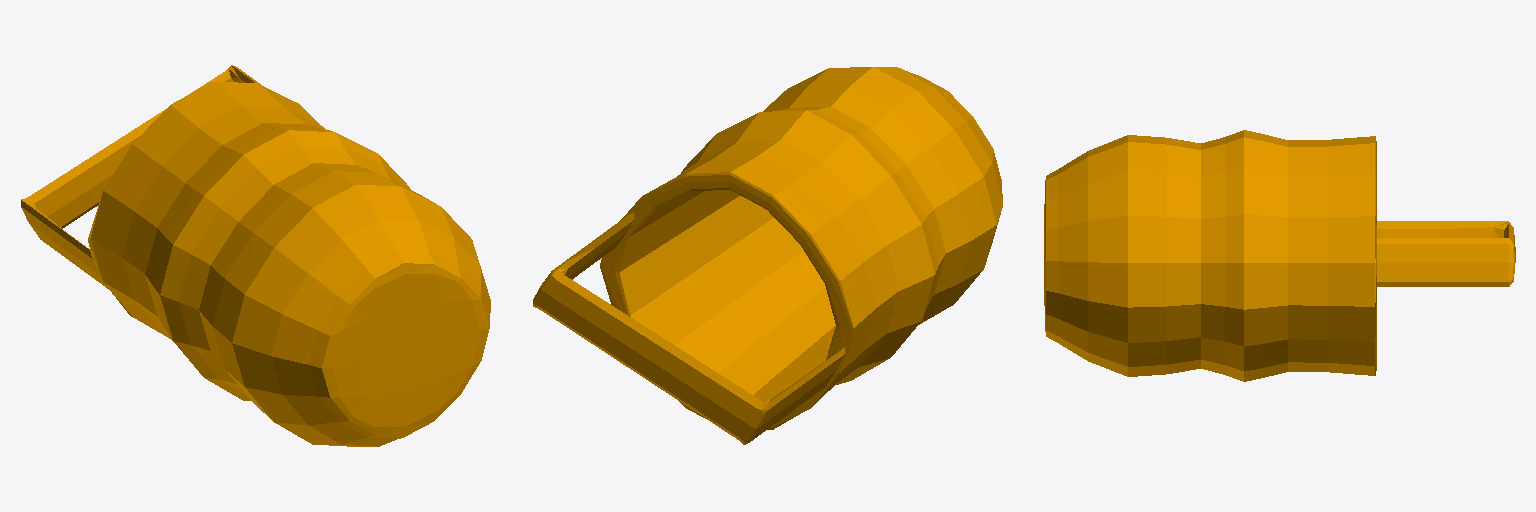
The robot description file, URDF, robot "139":
<?xml version="1.0" ?>
<robot name="139">
  <link name="body">
    <visual>
      <geometry>
        <mesh filename="../shapes/139.obj"/>
      </geometry>
    </visual>
    <collision>
      <geometry>
        <mesh filename="../shapes/139.obj"/>
      </geometry>
    </collision>
  </link>
</robot>

--- What the picture shows (computed from the rendered views, not written in the file) ---
3 views of the same robot in one strip: view 1: azimuth 30°, elevation 25°; view 2: azimuth 150°, elevation 25°; view 3: azimuth 270°, elevation 25° (orthographic).
Robot: 139 — 1 links, 0 joints (none); root link body; default pose: all joints at 0.
Visible links, largest first — view 1: body; view 2: body; view 3: body.
Link boxes in pixels (bbox=[...]): body: bbox=[21, 65, 490, 446]; body: bbox=[533, 67, 1002, 444]; body: bbox=[1044, 130, 1515, 381].
Size in the robot's own frame: 2.97 by 5.32 by 2.95 metres.
Meshes: 1 distinct files referenced, 1 mesh visuals loaded (1 OBJ).